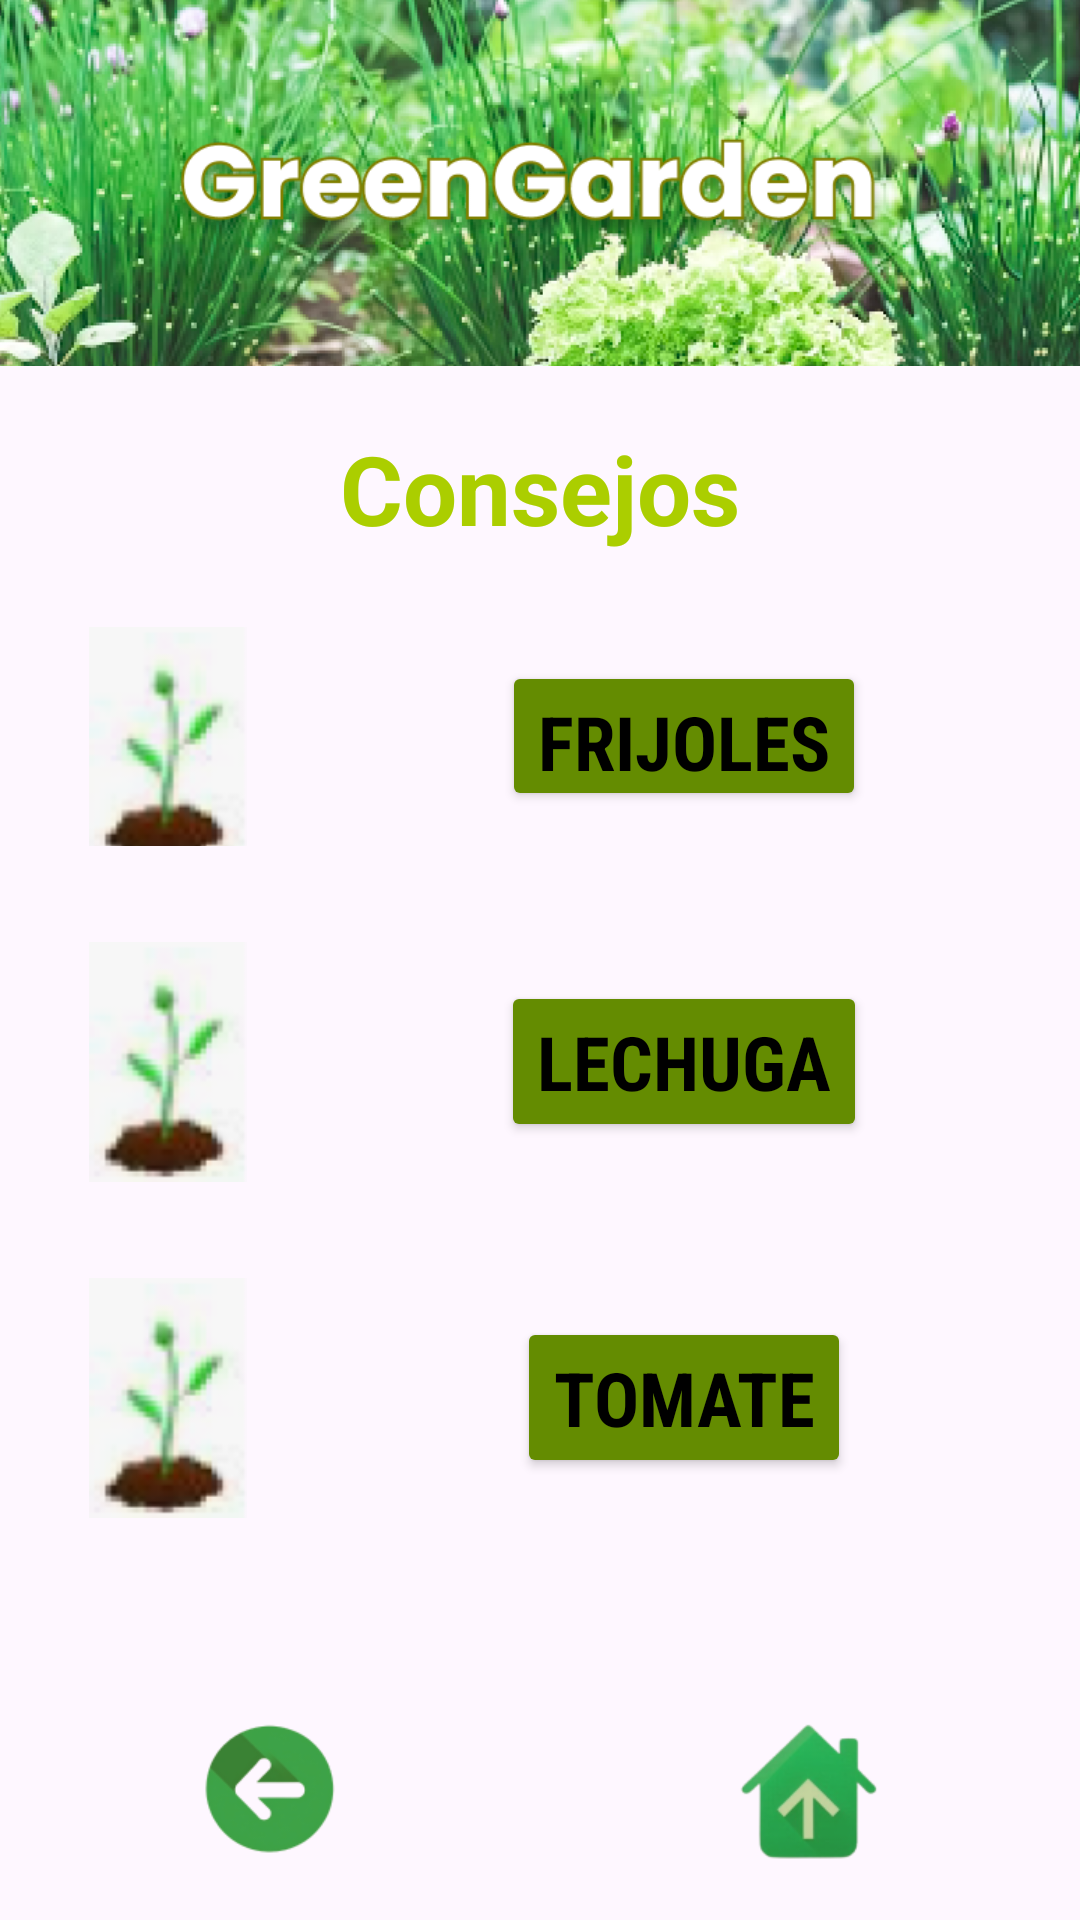

Icons on this 1080*1920 Android screen, each with its box as (x1, y1, x2, y2):
botonatras: (205, 1725, 334, 1853)
botoncasita: (741, 1725, 877, 1859)
iconoarbolito: (100, 660, 229, 846), (89, 946, 245, 1182), (89, 1282, 245, 1518)
